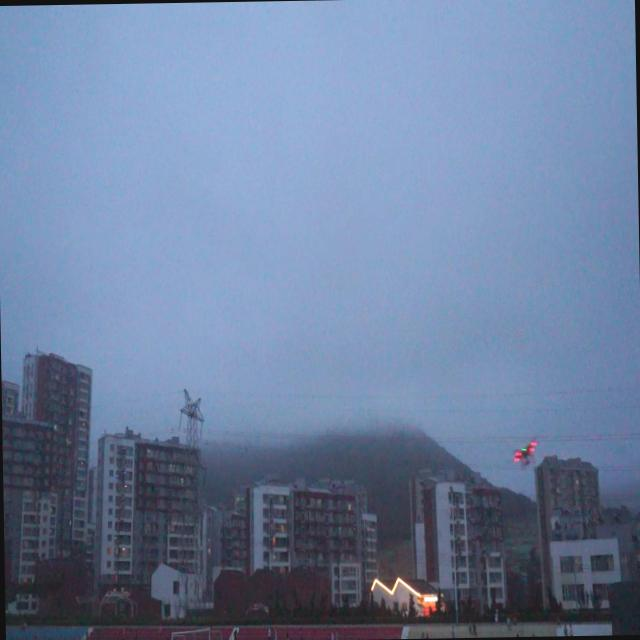drone: (512, 435, 538, 471)
